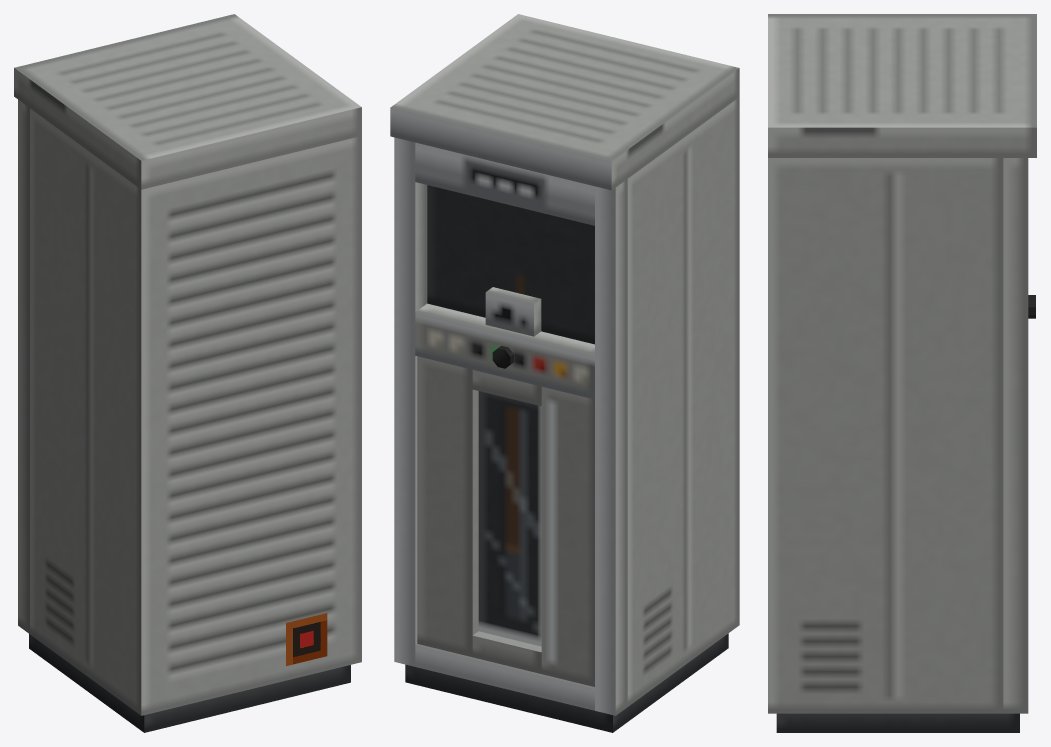
Rendered from era3_tape_drive_double_sided.obj.
The picture shows the model from 3 angles, left to right: view 1: azimuth 30°, elevation 25°; view 2: azimuth 150°, elevation 25°; view 3: azimuth 270°, elevation 25°; orthographic projection. The views are drawn at different scales.
Visible parts, largest first — view 1: era3_tape_drive; view 2: era3_tape_drive; view 3: era3_tape_drive.
Part boxes in pixels (x1,y1,x2,y2): era3_tape_drive: (14, 14, 361, 732); era3_tape_drive: (390, 14, 739, 732); era3_tape_drive: (768, 14, 1036, 732).
Bounding box in the file's own units: 2 × 5 × 2.
